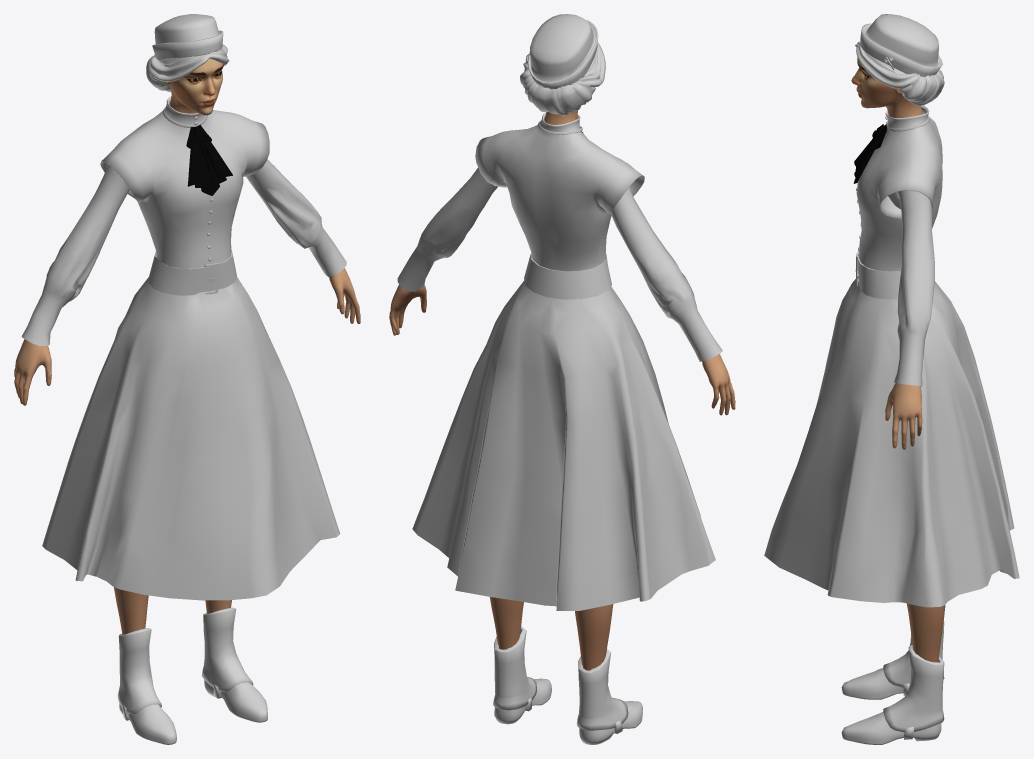
Rendered from Gi Set00 body dress.fbx.
The picture shows the model from 3 angles, left to right: view 1: azimuth 30°, elevation 25°; view 2: azimuth 150°, elevation 25°; view 3: azimuth 270°, elevation 25°; orthographic projection.
Visible parts, largest first — view 1: 2newskirt_low, dress_low, Shoes_low, hat_low, newbelt_low, lacedecor_low, Head, Hands, hair_low, ShinsLow, Fingers; view 2: 2newskirt_low, dress_low, Shoes_low, hat_low, newbelt_low, hair_low, ShinsLow, Shins, Hands, Fingers; view 3: 2newskirt_low, dress_low, Shoes_low, hat_low, hair_low, Head, newbelt_low, Hands, Shins, ShinsLow, lacedecor_low, Fingers.
Boxes of the visible parts, box(x1,y1,x2,y2) form: 2newskirt_low: box(42, 277, 340, 600); dress_low: box(21, 96, 346, 345); Shoes_low: box(117, 607, 267, 744); hat_low: box(152, 14, 223, 59); newbelt_low: box(147, 251, 236, 295); lacedecor_low: box(163, 106, 232, 195); Head: box(164, 58, 223, 115); Hands: box(14, 268, 357, 384); hair_low: box(146, 44, 229, 92); ShinsLow: box(116, 600, 231, 634); Fingers: box(14, 294, 360, 405); 2newskirt_low: box(412, 280, 715, 610); dress_low: box(397, 112, 722, 361); Shoes_low: box(493, 626, 642, 744); hat_low: box(527, 14, 598, 89); newbelt_low: box(524, 253, 611, 299); hair_low: box(520, 42, 605, 116); ShinsLow: box(491, 608, 609, 670); Shins: box(489, 597, 613, 635); Hands: box(389, 285, 732, 394); Fingers: box(389, 300, 735, 415); 2newskirt_low: box(764, 276, 1019, 607); dress_low: box(856, 105, 942, 386); Shoes_low: box(841, 621, 944, 744); hat_low: box(860, 14, 942, 76); hair_low: box(855, 41, 944, 105); Head: box(851, 57, 922, 117); newbelt_low: box(855, 251, 900, 299); Hands: box(887, 383, 922, 427); Shins: box(906, 603, 945, 632); ShinsLow: box(910, 625, 943, 662); lacedecor_low: box(853, 116, 929, 183); Fingers: box(885, 404, 922, 449).
Size of the model in its own units: 958 by 1894 by 630.
